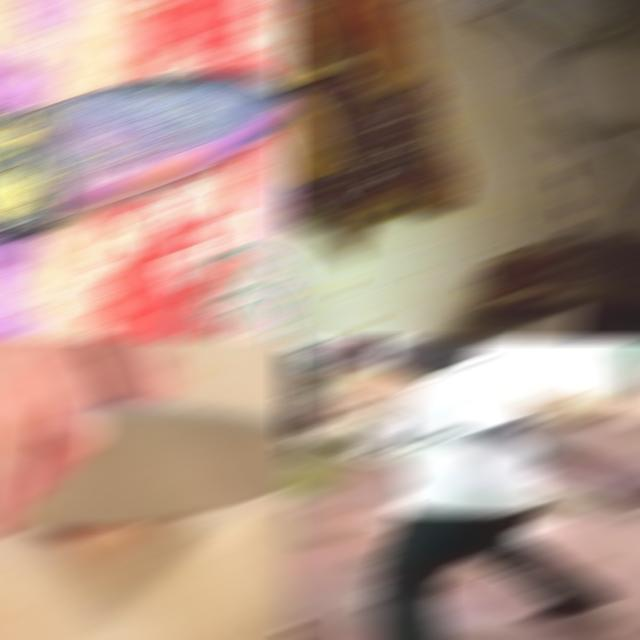Knife: (16, 408, 294, 526)
Knife_Handle: (602, 481, 640, 511), (605, 487, 640, 508)
